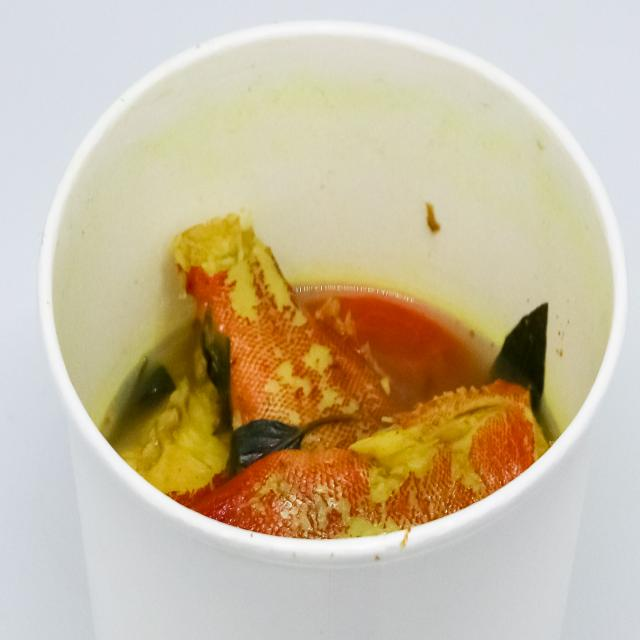Gulai-Ikan-Mas: (85, 192, 584, 550)
